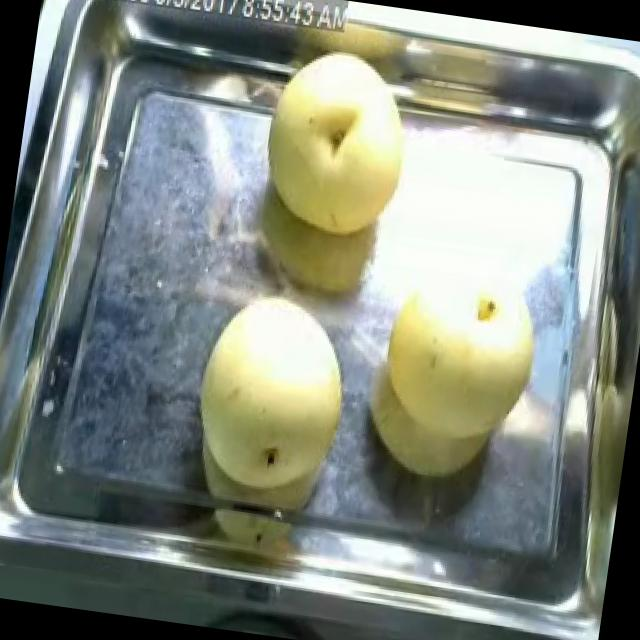Fruit: (348, 270, 552, 500), (174, 286, 370, 516), (246, 35, 432, 252)
